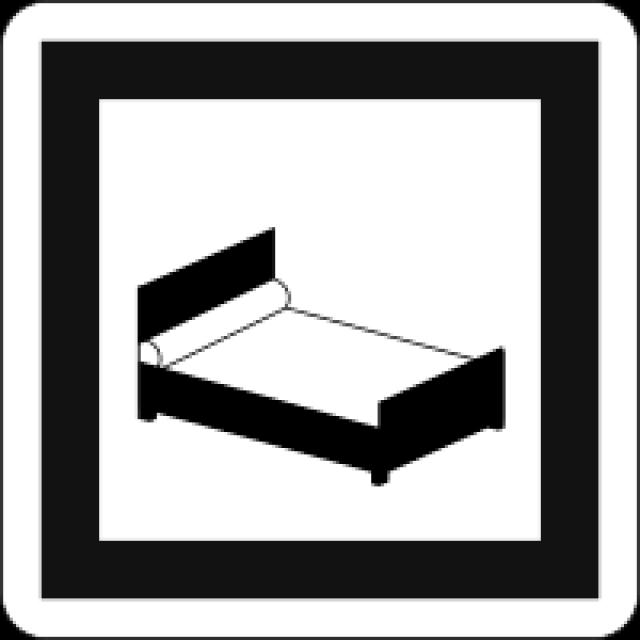indication: (0, 0, 640, 630)
